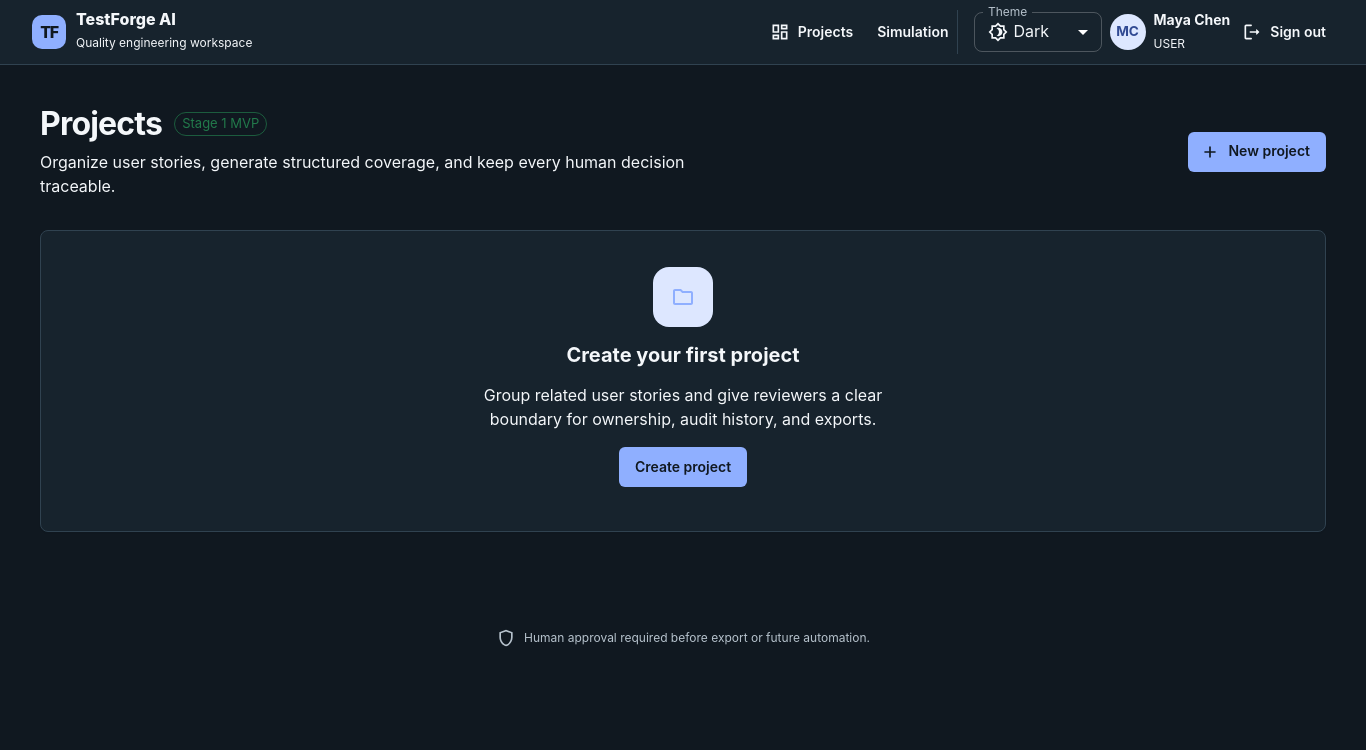
Test: TestForge application › restores a session and supports the new-project dialog
Check: the heading "Projects" is shown, box [40,105,162,142]
Check: the heading "Create your first project" is shown, box [566,343,800,367]
Click the button "New project". click: {"x": 1257, "y": 152}
box: [1188,132,1326,172]
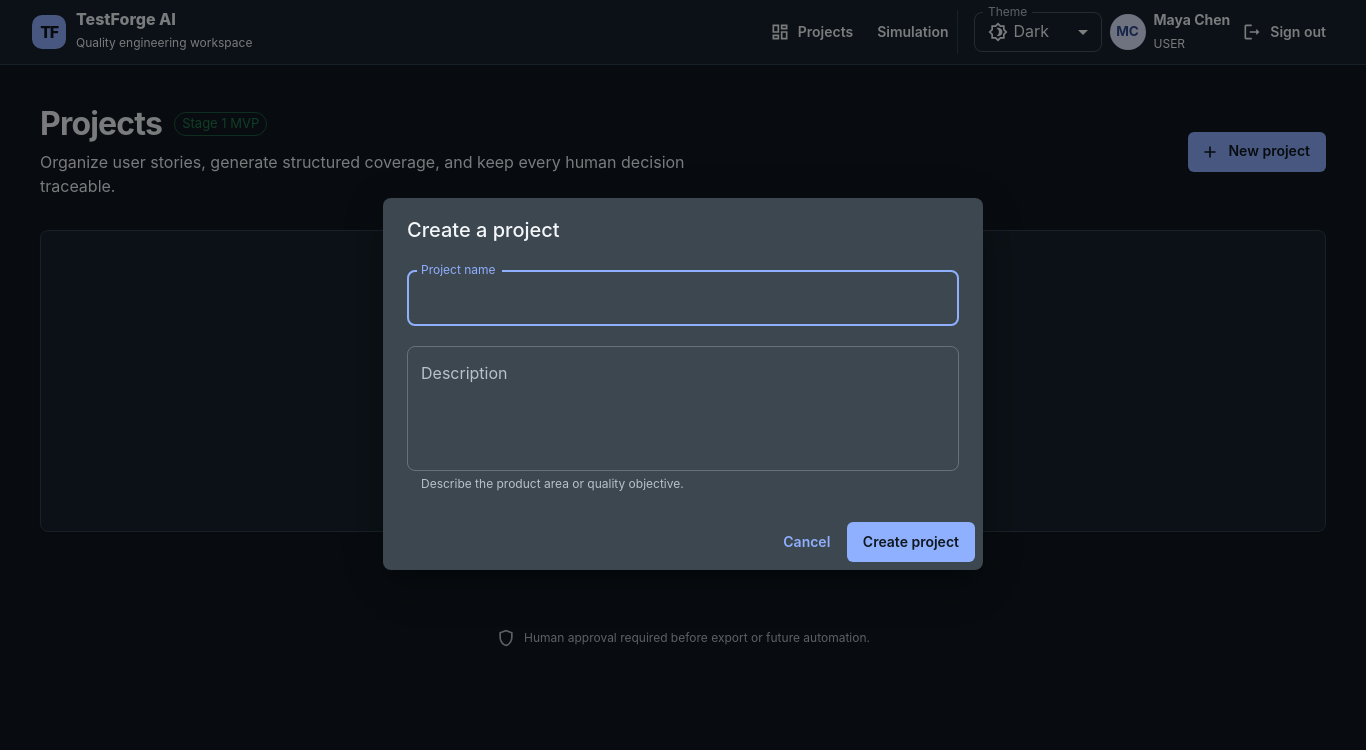
Check: the heading "Create a project" is shown, box [407,218,560,242]
Type "Payments Modernization" into the field labelled "Project name". click: {"x": 683, "y": 298}
box: [407,270,959,326]
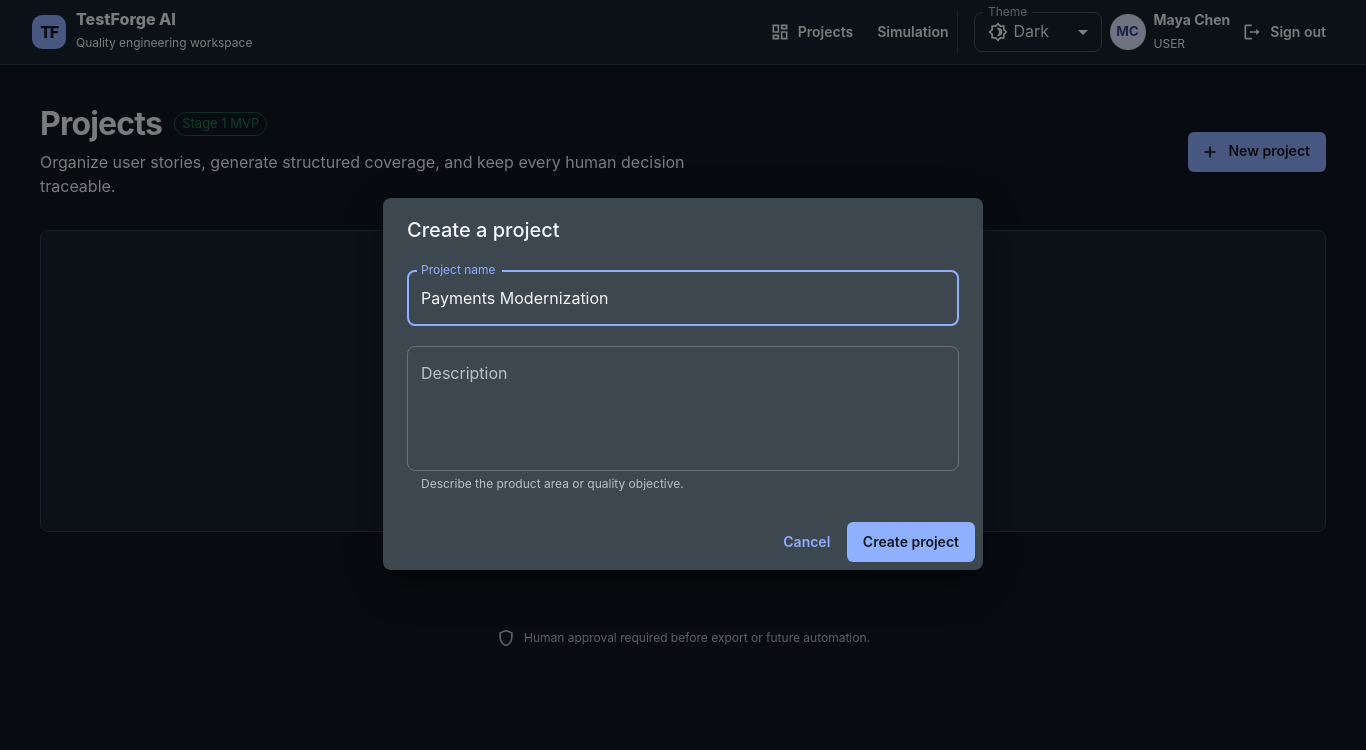
Type "Synthetic payments project." into the text box labelled "Description". click: {"x": 683, "y": 408}
box: [421,362,945,454]
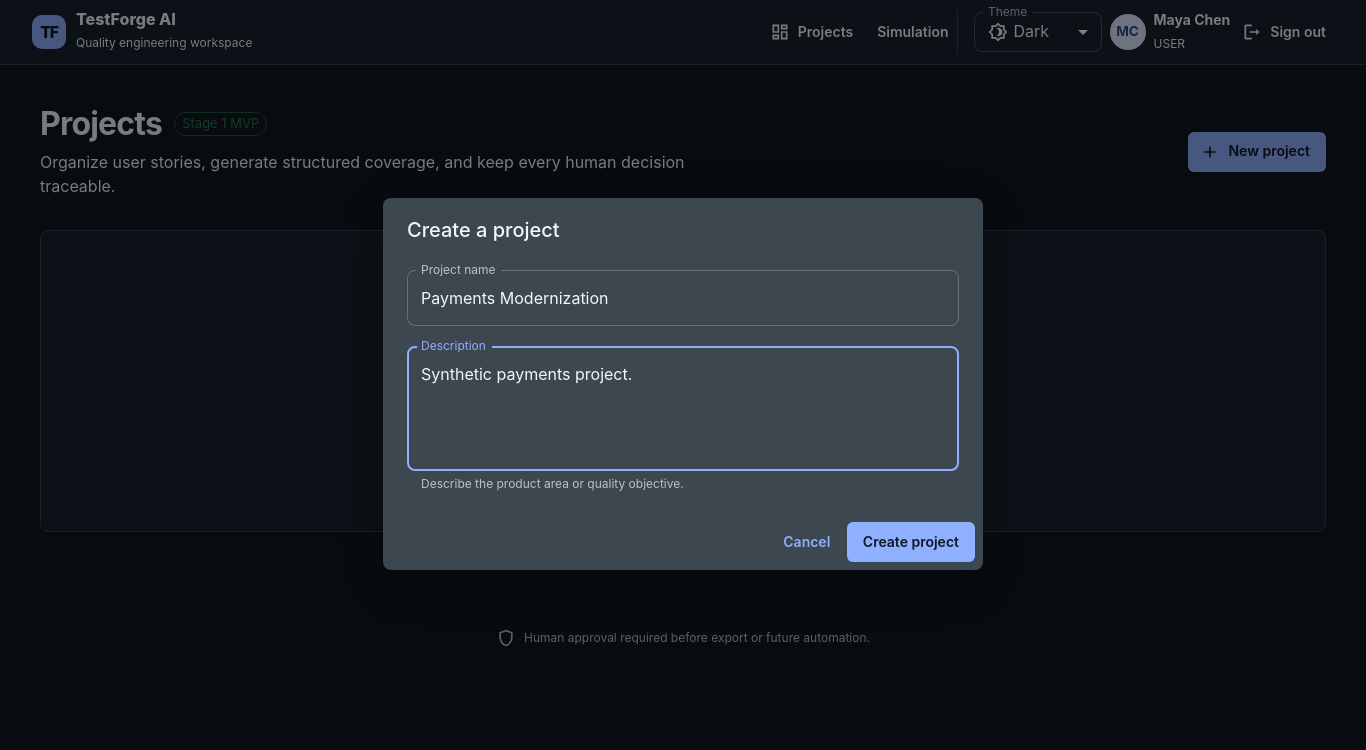
Click the button "Create project". click: {"x": 911, "y": 542}
box: [847,522,975,562]
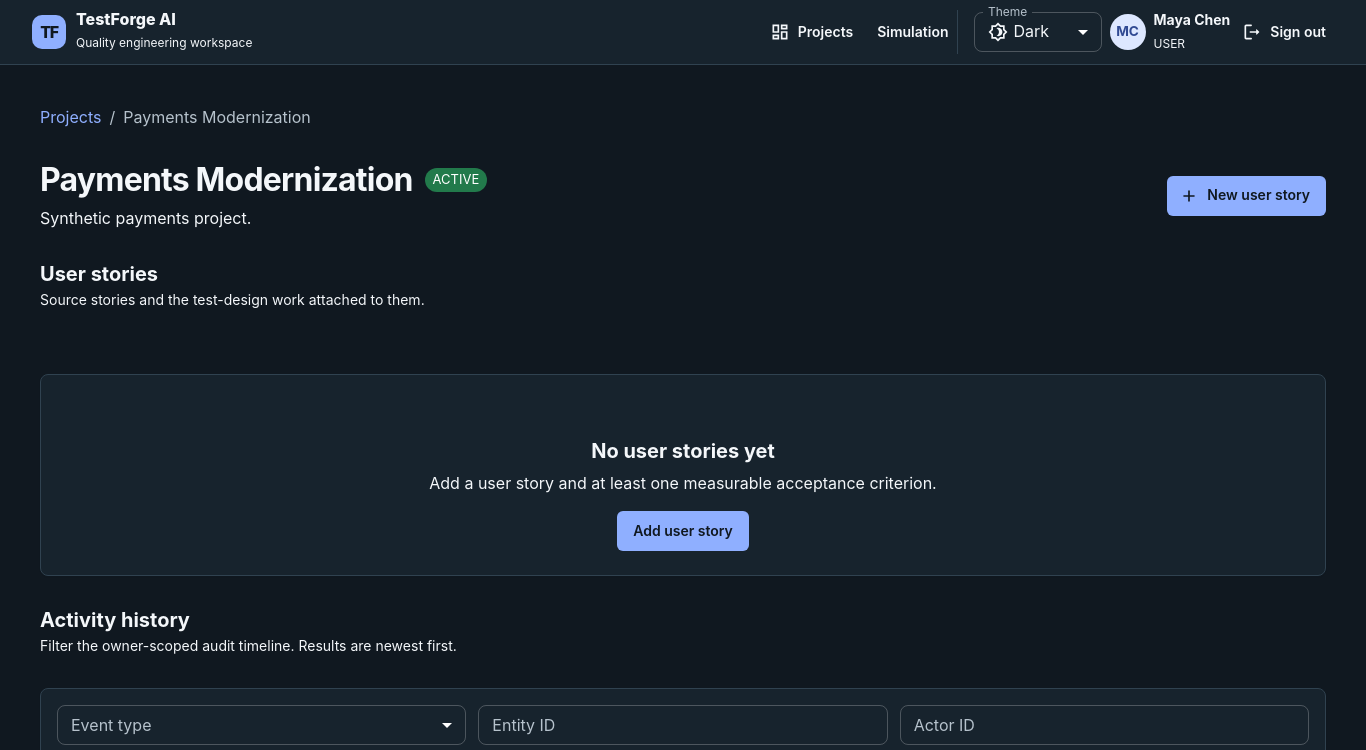
Check: the heading "Payments Modernization" is shown, box [40,161,413,198]
